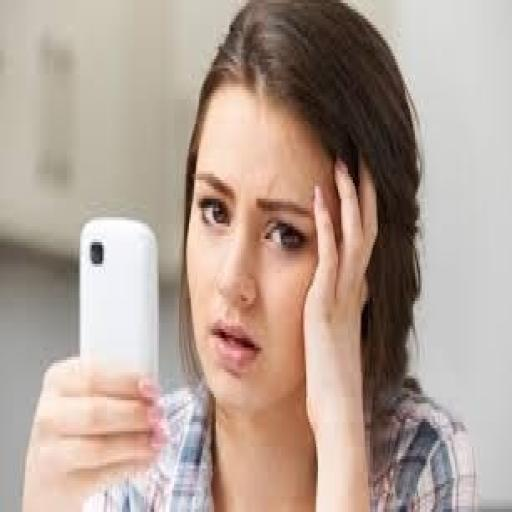texting: (20, 0, 479, 509)
